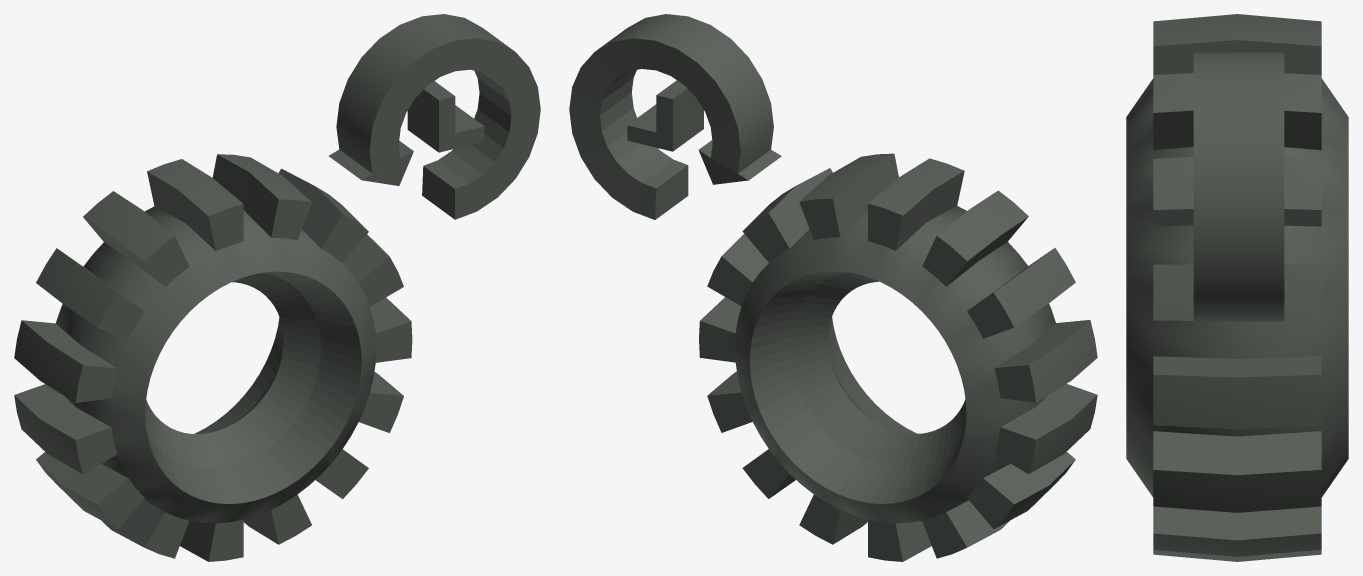
The model's file is unit_up.fbx.
The picture shows the model from 3 angles, left to right: view 1: azimuth 30°, elevation 25°; view 2: azimuth 150°, elevation 25°; view 3: azimuth 270°, elevation 25°; orthographic projection. The views are drawn at different scales.
Parts seen in each view (by area): view 1: Plane002; view 2: Plane002; view 3: Plane002.
Part boxes in pixels (x1,y1,x2,y2): Plane002: (14,14,540,561); Plane002: (569,14,1097,561); Plane002: (1126,14,1348,561).
Bounding box in the file's own units: 10283 × 9241 × 2986.
Materials: 1 (1 with a texture image).
